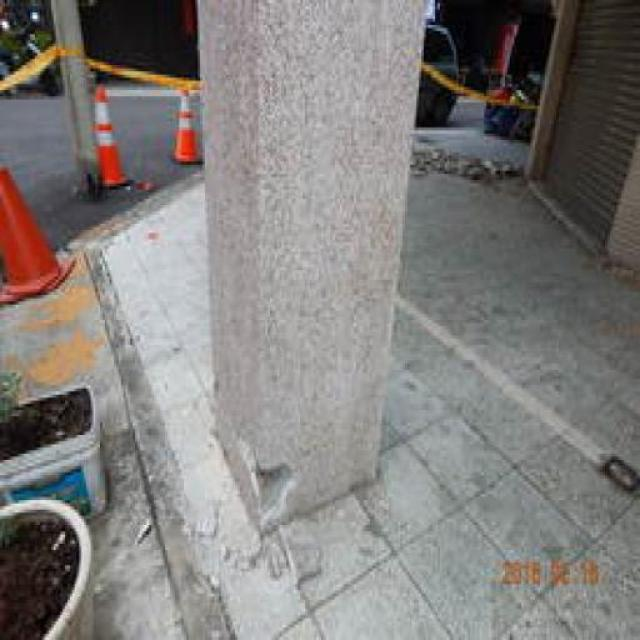D10: (245, 446, 299, 531)
